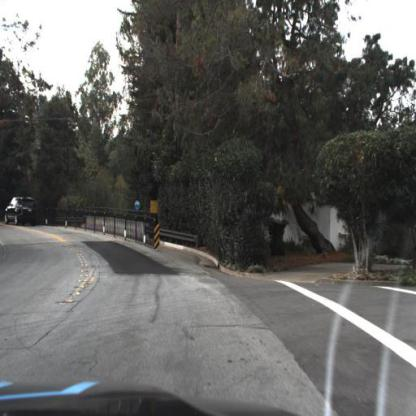car: (3, 198, 39, 226)
